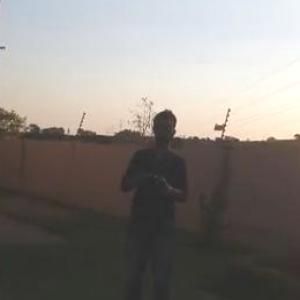follow: (106, 103, 196, 299)
